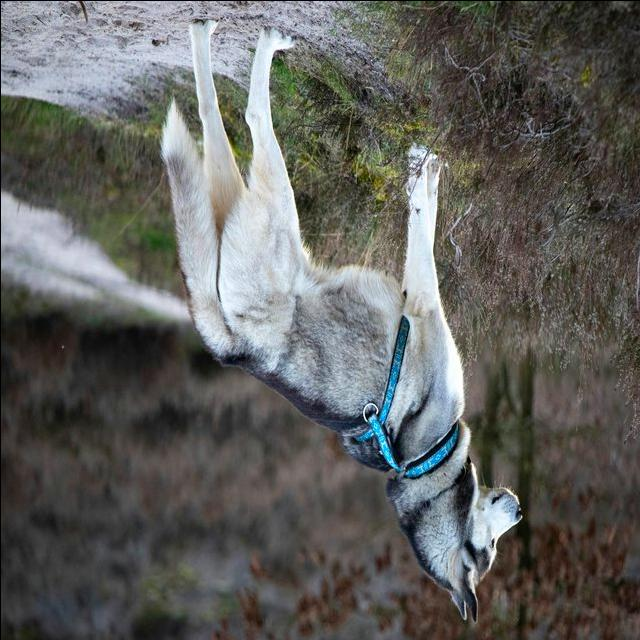husky: (158, 19, 524, 625)
